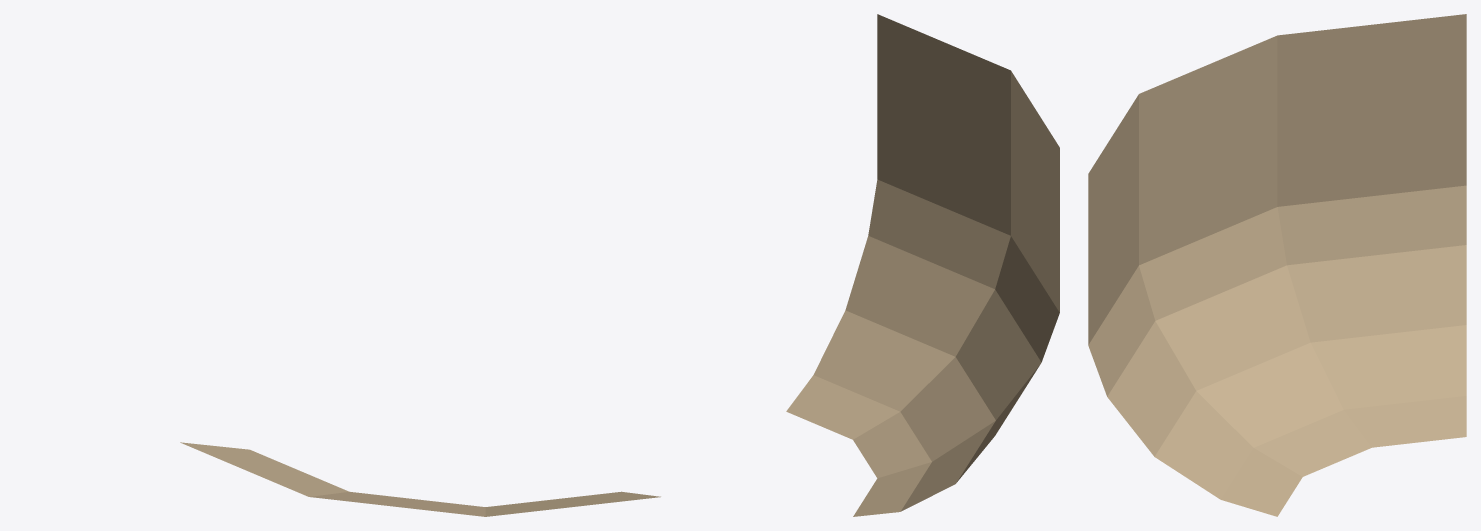
File: Escarpment_Terrain_Corner_Inner_1x1_Base.glb
3 views of the same model, side by side, from view 1: azimuth 30°, elevation 25°; view 2: azimuth 150°, elevation 25°; view 3: azimuth 270°, elevation 25° (orthographic). The views are drawn at different scales.
Visible parts, largest first — view 1: Escarpment_Terrain_Corner_Inner_1x1_Base; view 2: Escarpment_Terrain_Corner_Inner_1x1_Base; view 3: Escarpment_Terrain_Corner_Inner_1x1_Base.
Boxes of the visible parts, bbox=[...] form: Escarpment_Terrain_Corner_Inner_1x1_Base: bbox=[180, 442, 660, 516]; Escarpment_Terrain_Corner_Inner_1x1_Base: bbox=[786, 14, 1059, 516]; Escarpment_Terrain_Corner_Inner_1x1_Base: bbox=[1088, 14, 1466, 516].
Bounding box in the file's own units: 1 × 1 × 1.
